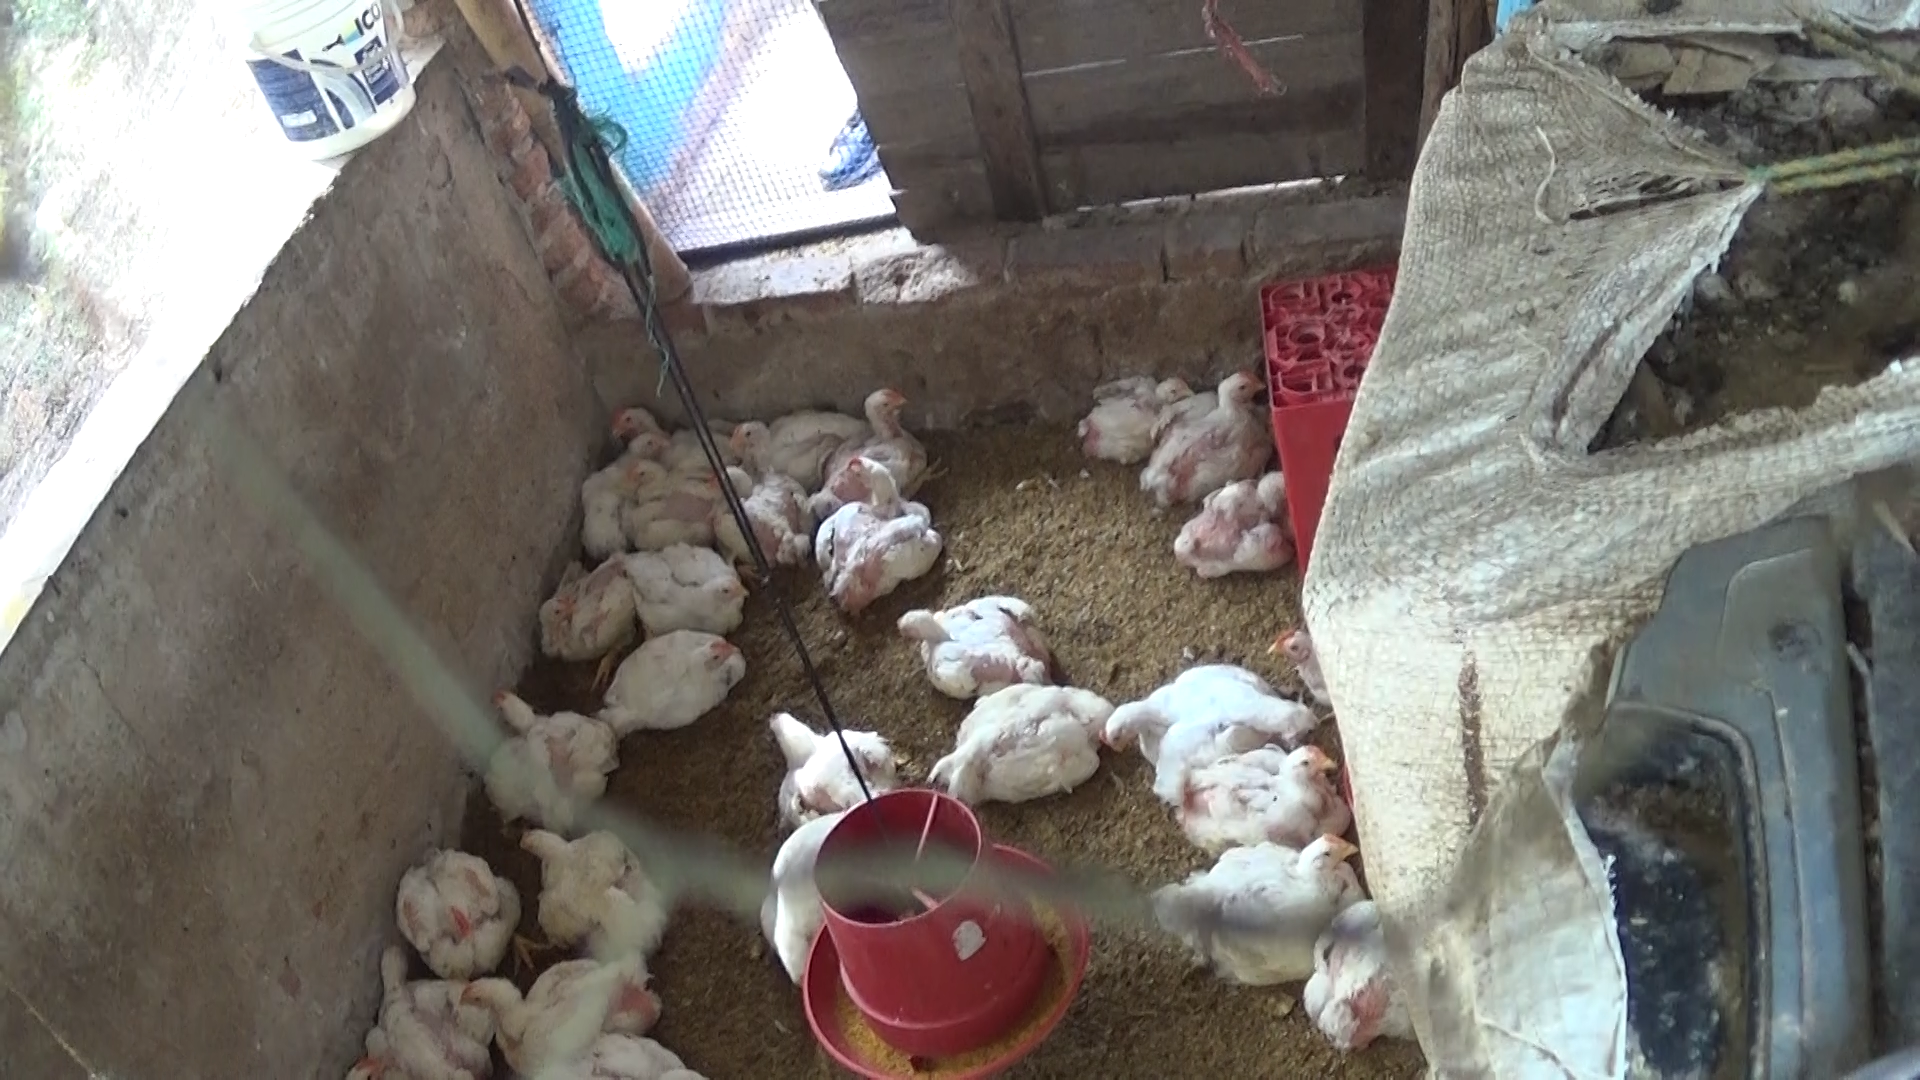Pollos: (1150, 825, 1360, 992), (452, 949, 705, 1080), (1095, 655, 1304, 773), (926, 682, 1124, 804), (1124, 365, 1275, 516), (349, 930, 500, 1073), (509, 822, 676, 949), (811, 459, 949, 613), (752, 802, 861, 997), (1296, 886, 1412, 1058), (477, 684, 613, 829), (1159, 463, 1305, 585), (1168, 748, 1356, 843), (389, 845, 529, 967), (597, 628, 750, 732), (899, 597, 1056, 688), (1067, 361, 1193, 472), (578, 433, 694, 549), (761, 702, 893, 802), (535, 553, 642, 673), (620, 537, 746, 630), (831, 377, 927, 496), (713, 456, 814, 564), (612, 465, 735, 550), (731, 400, 857, 479), (616, 392, 731, 463), (1259, 617, 1335, 700)
